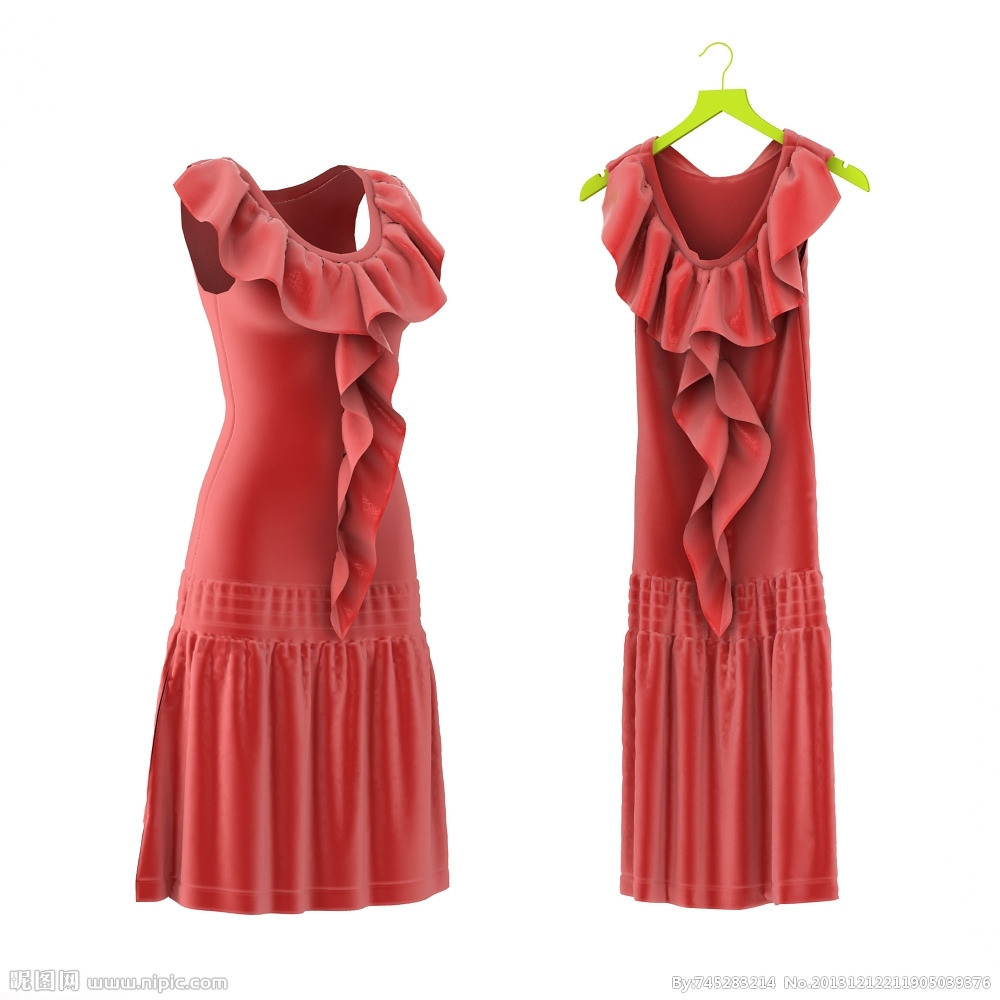flexible: (137, 160, 453, 903), (603, 137, 845, 908)
